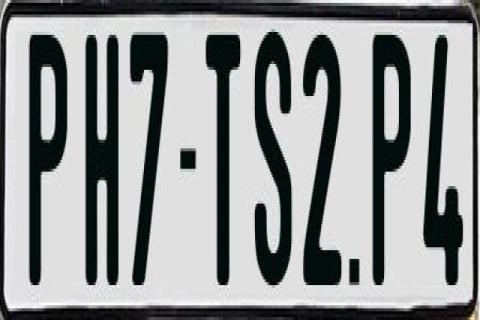0: (300, 32, 344, 300), (420, 29, 462, 291), (128, 27, 166, 280)
H: (83, 29, 117, 294)
P: (28, 35, 70, 297), (371, 32, 415, 282)
S: (255, 29, 296, 285)
T: (204, 29, 242, 291)
